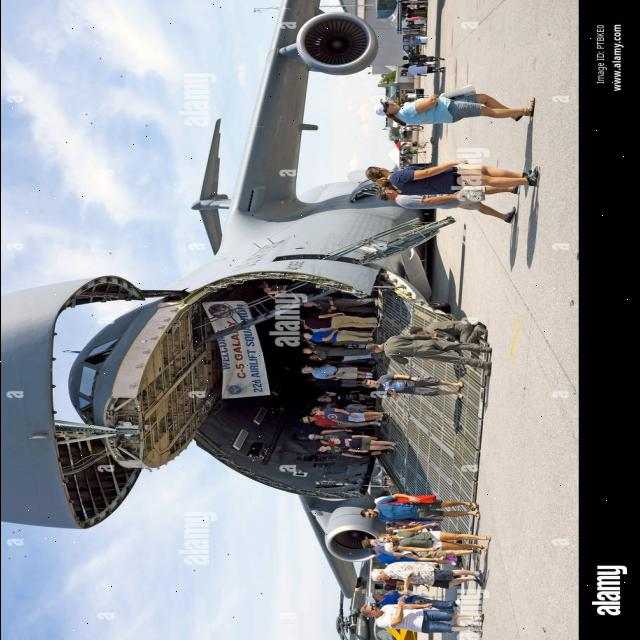C5: (4, 14, 522, 640)
